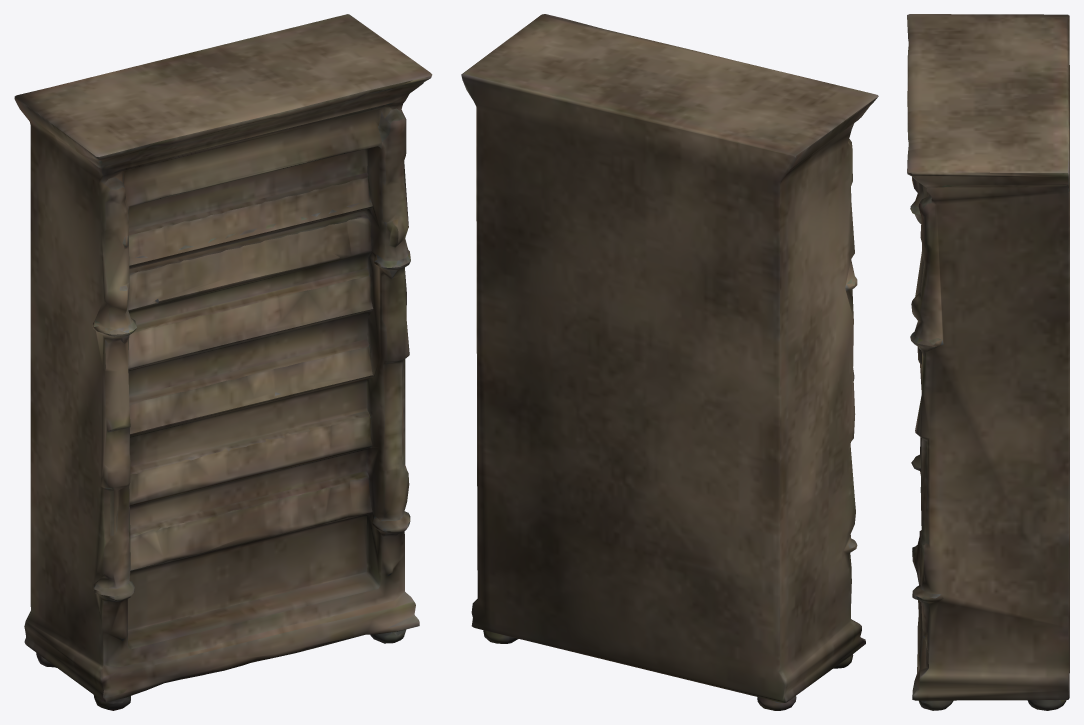
Rendered from sturdy-wood-bookcase-v002.glb.
The picture shows the model from 3 angles, left to right: view 1: azimuth 30°, elevation 25°; view 2: azimuth 150°, elevation 25°; view 3: azimuth 270°, elevation 25°; orthographic projection. The views are drawn at different scales.
Parts seen in each view (by area): view 1: sturdy-wood-bookcase; view 2: sturdy-wood-bookcase; view 3: sturdy-wood-bookcase.
Part boxes in pixels (x1,y1,x2,y2): sturdy-wood-bookcase: (14,14,432,710); sturdy-wood-bookcase: (461,14,878,710); sturdy-wood-bookcase: (907,14,1069,710).
Bounding box in the file's own units: 1.27 × 2.06 × 0.5512.
Materials: 1 (1 with a texture image).
